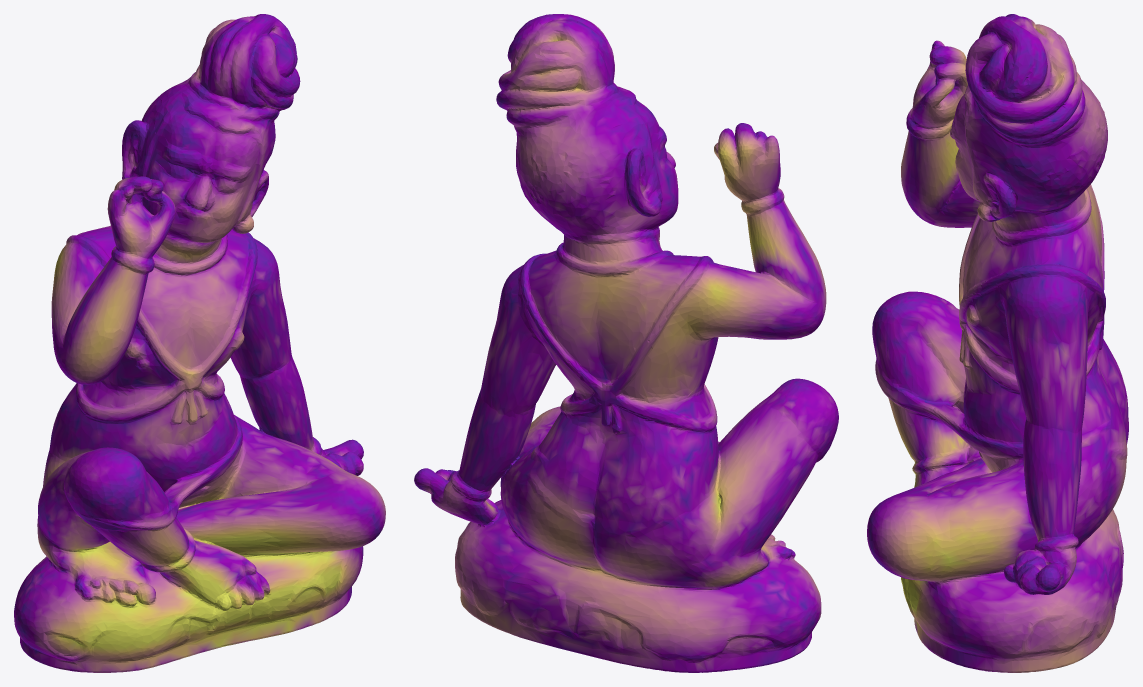
The model's file is iter_11.glb.
3 views of the same model, side by side, from view 1: azimuth 30°, elevation 25°; view 2: azimuth 150°, elevation 25°; view 3: azimuth 270°, elevation 25° (orthographic). The views are drawn at different scales.
Parts seen in each view (by area): view 1: textured_mesh; view 2: textured_mesh; view 3: textured_mesh.
Part boxes in pixels (bbox=[...]): textured_mesh: bbox=[14, 14, 385, 672]; textured_mesh: bbox=[414, 14, 838, 672]; textured_mesh: bbox=[867, 14, 1128, 672].
Bounding box in the file's own units: 1.32 × 1.99 × 0.7774.
